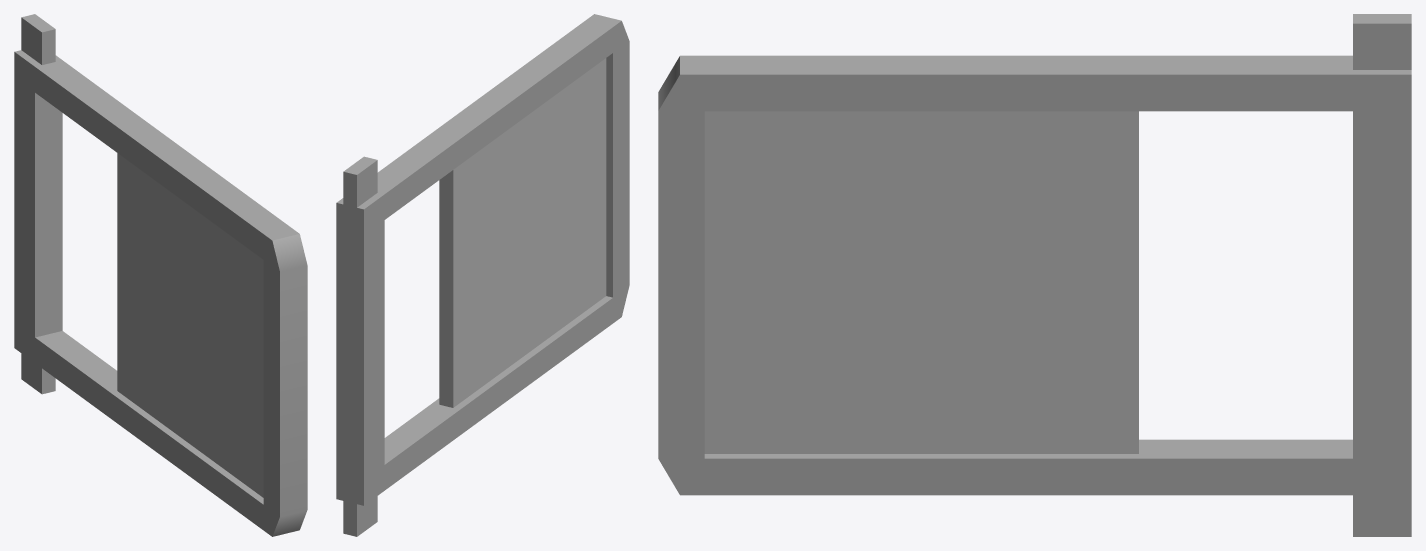
The model's file is gate.fbx.
3 renders of one model, left to right at view 1: azimuth 30°, elevation 25°; view 2: azimuth 150°, elevation 25°; view 3: azimuth 270°, elevation 25°, orthographic. The views are drawn at different scales.
Parts seen in each view (by area): view 1: pCube52; view 2: pCube52; view 3: pCube52.
Part boxes in pixels (x1,y1,x2,y2): pCube52: (14, 14, 307, 536); pCube52: (336, 14, 629, 536); pCube52: (658, 14, 1411, 536).
Bounding box in the file's own units: 0.1493 × 1.88 × 2.5.
Materials: 1 (1 with a texture image).
